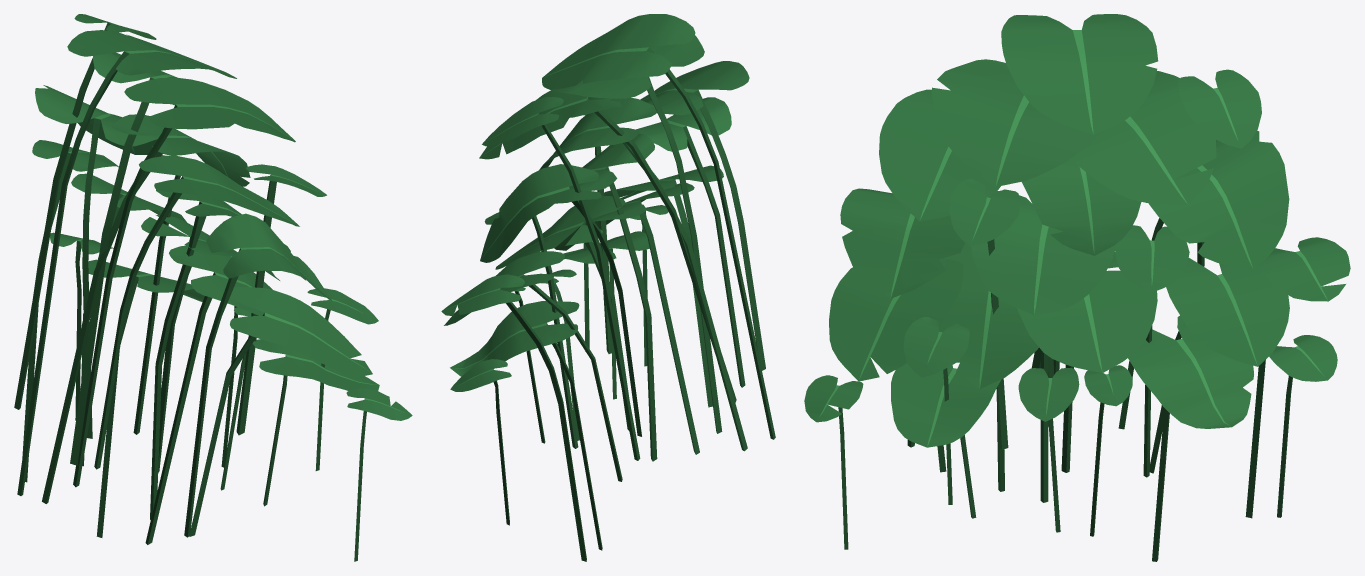
The model's file is plant_monstera_C.fbx.
3 renders of one model, left to right at view 1: azimuth 30°, elevation 25°; view 2: azimuth 150°, elevation 25°; view 3: azimuth 270°, elevation 25°, orthographic. The views are drawn at different scales.
Parts seen in each view (by area): view 1: plant_monstera_C; view 2: plant_monstera_C; view 3: plant_monstera_C.
Boxes of the visible parts, x1,y1,x2,y2 form: plant_monstera_C: (14, 14, 412, 561); plant_monstera_C: (441, 14, 775, 561); plant_monstera_C: (804, 14, 1350, 561).
Bounding box in the file's own units: 251 × 415 × 385.
